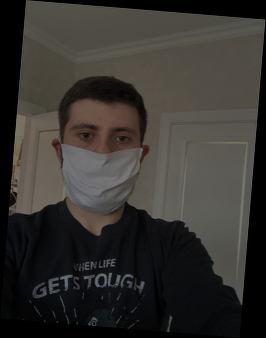with_mask: (60, 115, 144, 215)
